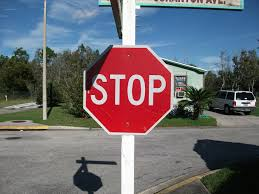Stop: (88, 36, 186, 138)
